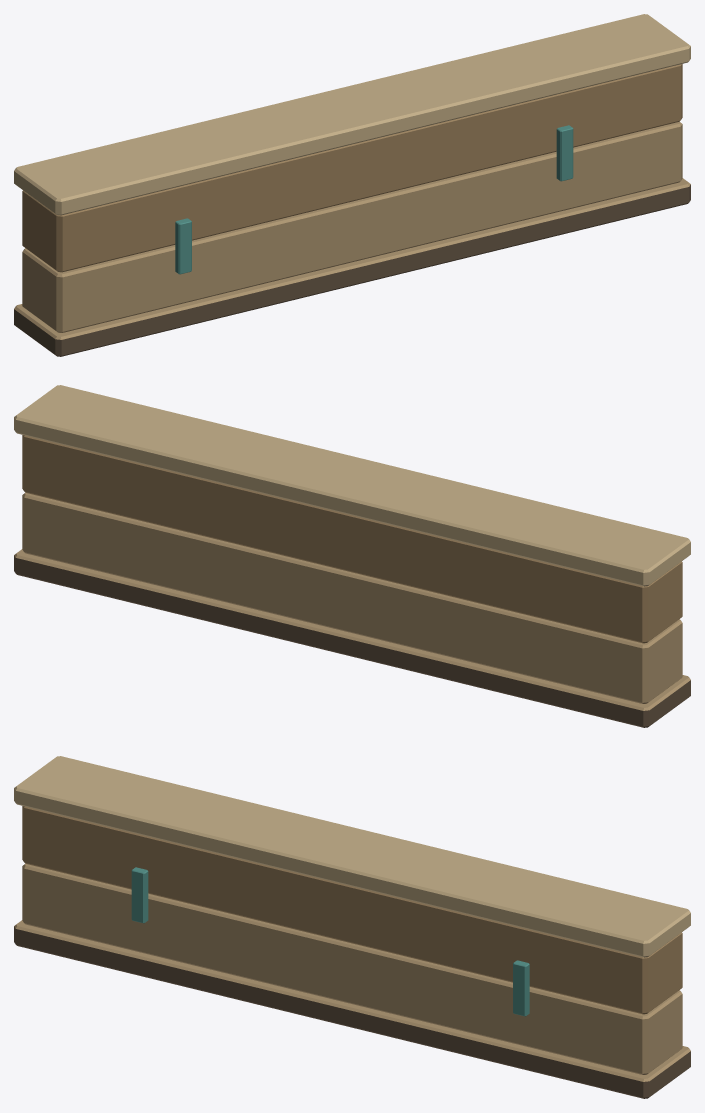
Rendered from wall-long.glb.
3 renders of one model, top to bottom at view 1: azimuth 30°, elevation 25°; view 2: azimuth 150°, elevation 25°; view 3: azimuth 330°, elevation 25°, orthographic.
Visible parts, largest first — view 1: wall-long__body; view 2: wall-long__body; view 3: wall-long__body.
Part boxes in pixels (bbox=[...]): wall-long__body: bbox=[14, 14, 690, 356]; wall-long__body: bbox=[14, 385, 690, 727]; wall-long__body: bbox=[14, 756, 690, 1098].
Bounding box in the file's own units: 4 × 0.95 × 0.513.
